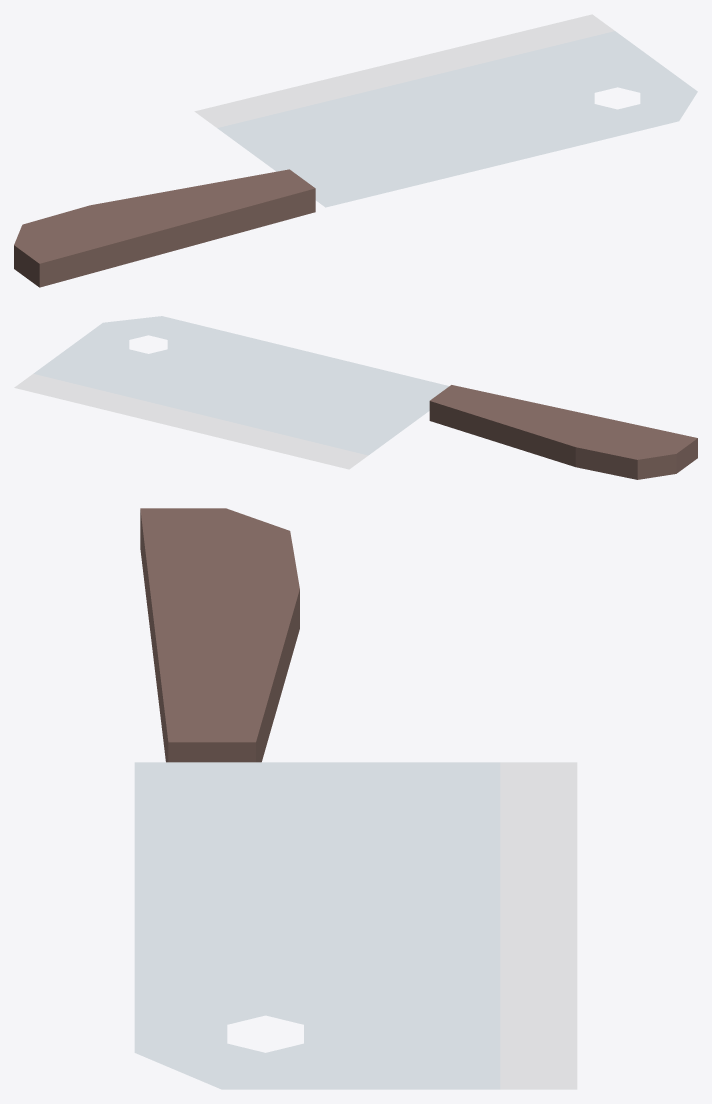
Rendered from cookingKnifeChopping.fbx.
3 views of the same model, one above another, from view 1: azimuth 30°, elevation 25°; view 2: azimuth 150°, elevation 25°; view 3: azimuth 270°, elevation 25° (orthographic). The views are drawn at different scales.
Parts seen in each view (by area): view 1: cookingKnifeChopping.001; view 2: cookingKnifeChopping.001; view 3: cookingKnifeChopping.001.
Boxes of the visible parts, left/top/right/bottom form: cookingKnifeChopping.001: left=14, top=14, right=697, bottom=287; cookingKnifeChopping.001: left=14, top=316, right=697, bottom=479; cookingKnifeChopping.001: left=134, top=508, right=577, bottom=1089.
Size of the model in its own units: 60 by 2 by 20.
